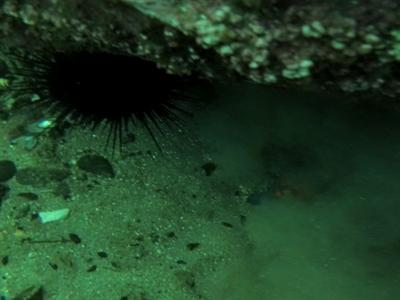urchin: (6, 41, 196, 167)
